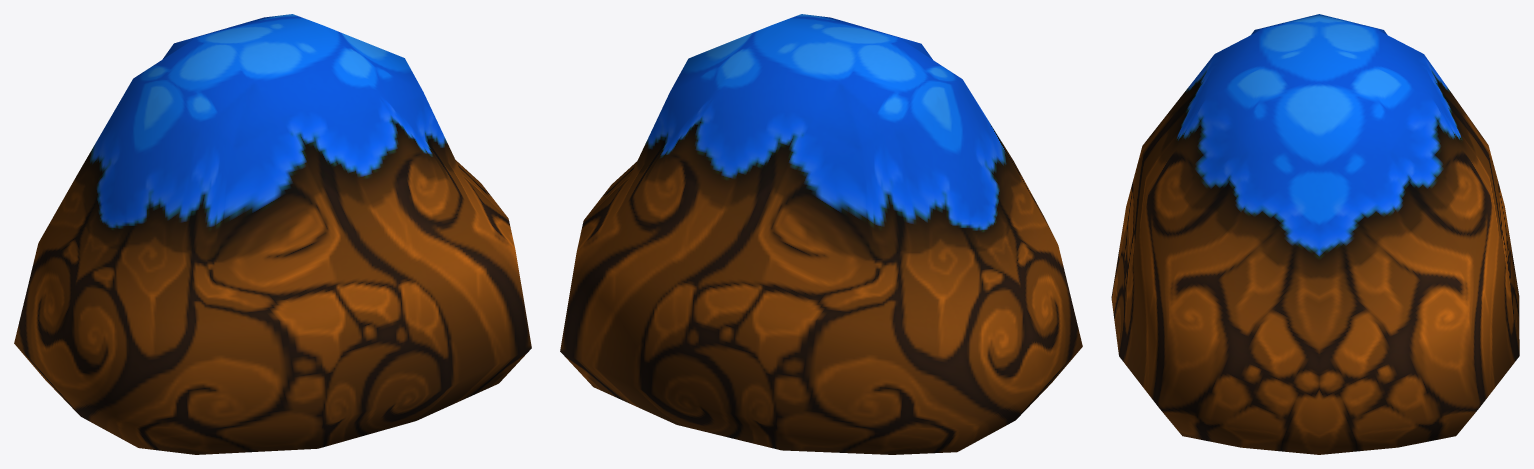
File: Blue_Rock_04.FBX
The picture shows the model from 3 angles, left to right: view 1: azimuth 30°, elevation 25°; view 2: azimuth 150°, elevation 25°; view 3: azimuth 270°, elevation 25°; orthographic projection. The views are drawn at different scales.
Parts seen in each view (by area): view 1: Blue_Rock_04; view 2: Blue_Rock_04; view 3: Blue_Rock_04.
Boxes of the visible parts, x1,y1,x2,y2 form: Blue_Rock_04: [14, 14, 531, 454]; Blue_Rock_04: [560, 14, 1082, 454]; Blue_Rock_04: [1111, 14, 1519, 454].
Size of the model in its own units: 292 by 212 by 243.
